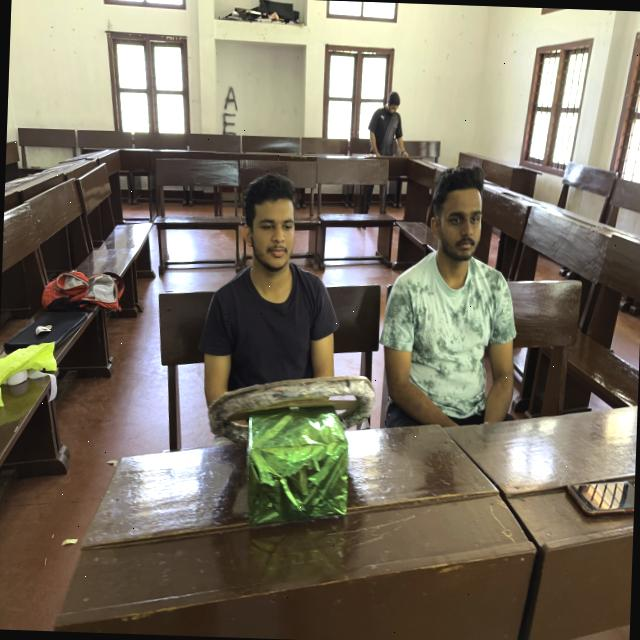Helmet: (200, 266, 357, 462), (376, 242, 518, 430)
